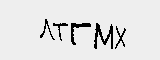Г: (69, 20, 90, 46)
Л: (35, 17, 55, 41)
М: (92, 22, 115, 48)
Т: (53, 19, 67, 42)
Х: (112, 25, 133, 49)
